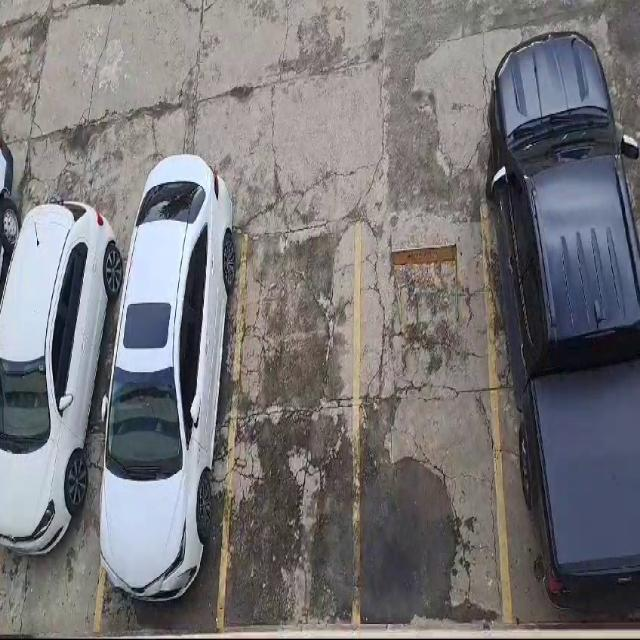empty: (356, 206, 508, 629), (219, 227, 359, 628)
notEmpty: (485, 185, 639, 628), (93, 236, 246, 632), (1, 239, 135, 631)
